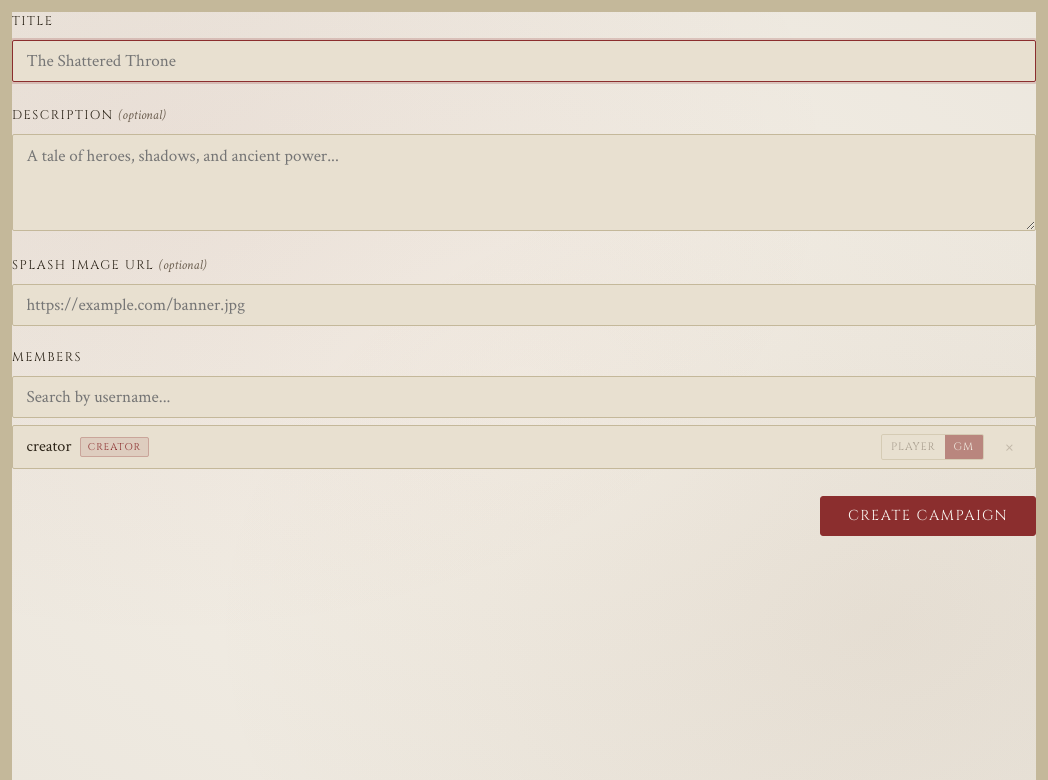
Test: NewCampaignForm › should show validation error for invalid splash URL
This screenshot has width=1048, height=780.
Type "My Campaign" into the field labelled "Title". click: (524, 61)
box: x1=12 y1=40 x2=1036 y2=82
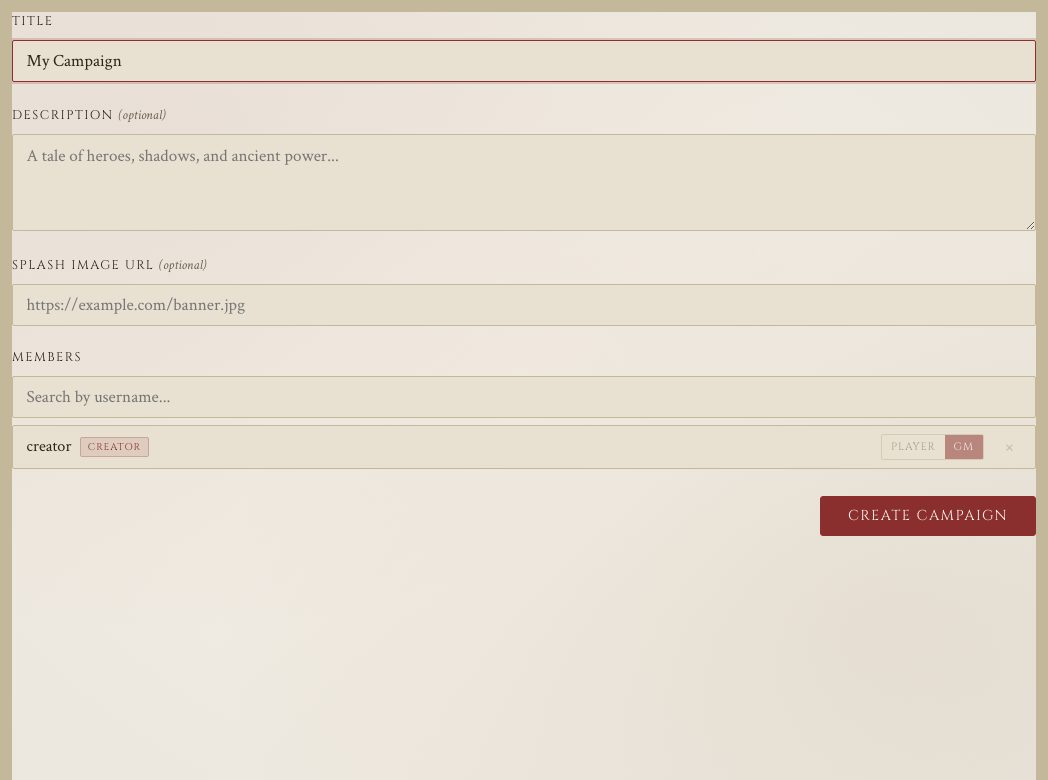
Type "not-a-url" into the field labelled "Splash Image URL (optional)". click: (524, 305)
box: x1=12 y1=284 x2=1036 y2=326
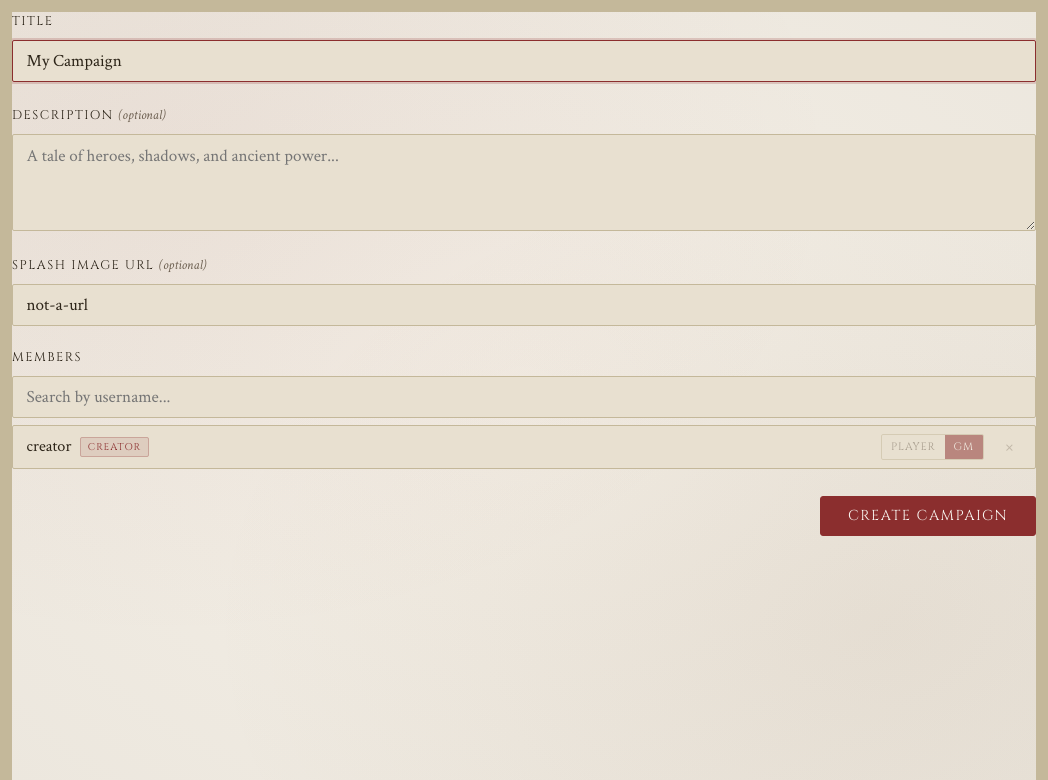
Click the button "Create Campaign". click: (928, 516)
box: x1=820 y1=496 x2=1036 y2=536
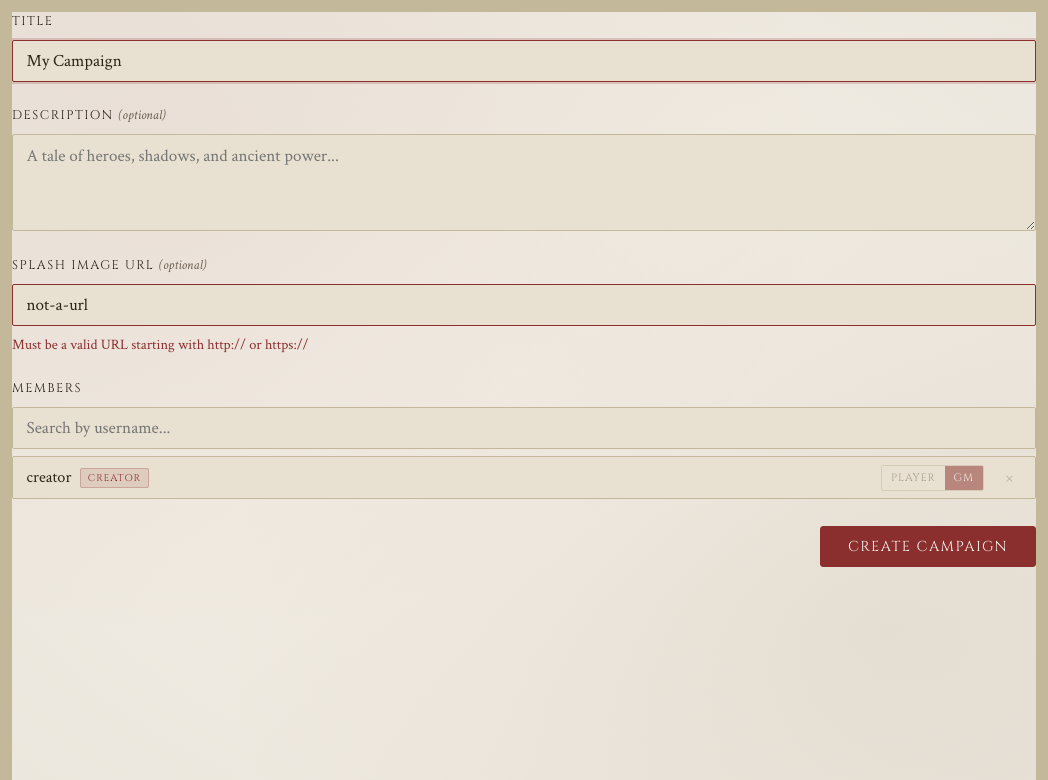
Expected: the text "Must be a valid URL starting with http:// or https://" is shown, x1=12 y1=335 x2=309 y2=354
